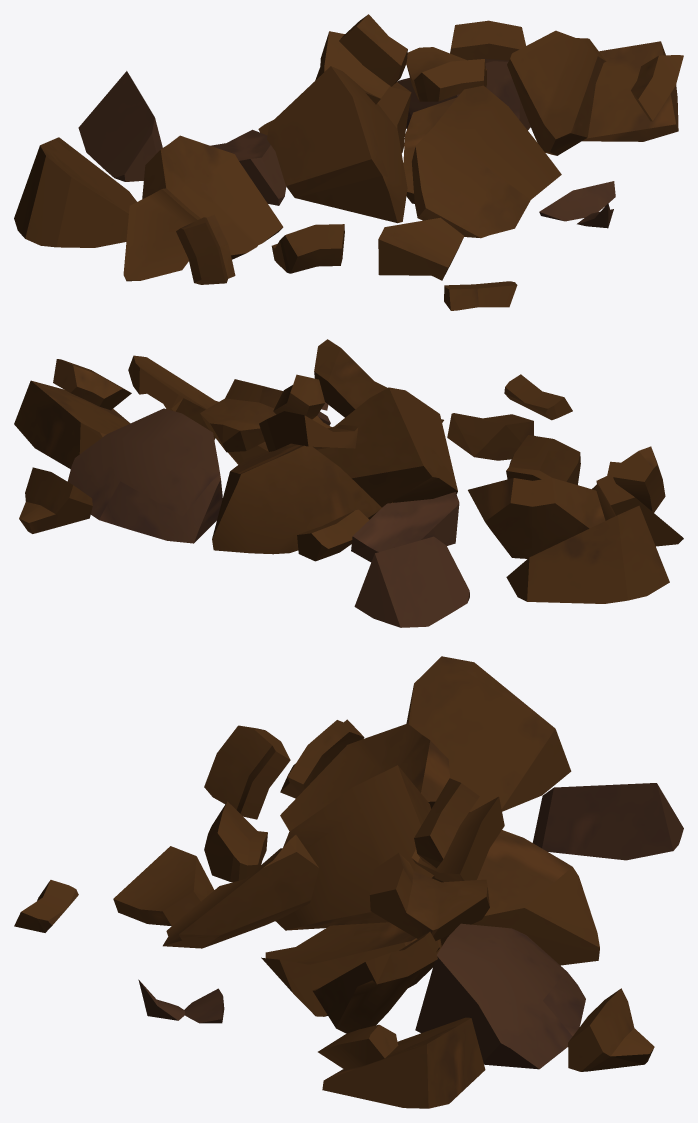
The model's file is Vase_Rubble_Medium.gltf.
3 views of the same model, one above another, from view 1: azimuth 30°, elevation 25°; view 2: azimuth 150°, elevation 25°; view 3: azimuth 270°, elevation 25° (orthographic). The views are drawn at different scales.
Visible parts, largest first — view 1: Vase_Rubble_Medium; view 2: Vase_Rubble_Medium; view 3: Vase_Rubble_Medium.
Part boxes in pixels (left/top/right/bottom): Vase_Rubble_Medium: left=14, top=14, right=683, bottom=310; Vase_Rubble_Medium: left=14, top=339, right=683, bottom=627; Vase_Rubble_Medium: left=14, top=656, right=683, bottom=1108.
Bounding box in the file's own units: 0.7969 × 0.1746 × 0.5984.
1 material, 1 textured.
